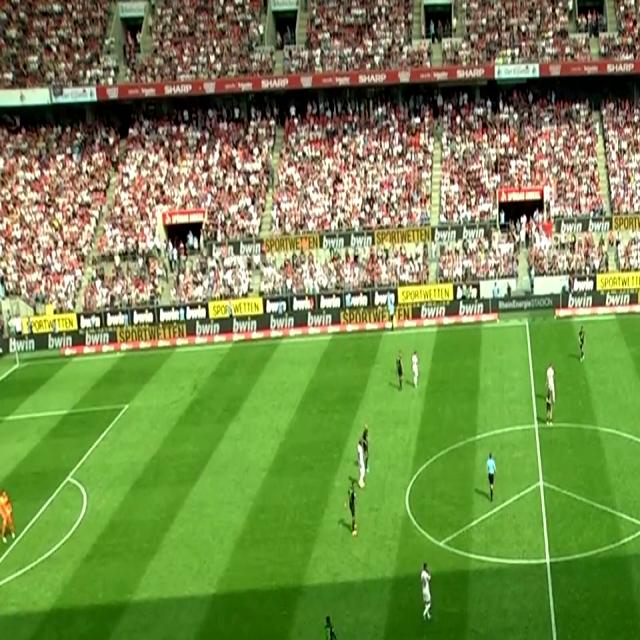goalkeeper: (0, 479, 21, 552)
referee: (482, 443, 500, 504)
soccer-player: (416, 557, 440, 629), (343, 478, 362, 546), (353, 440, 369, 491), (543, 384, 557, 440), (390, 344, 404, 399), (577, 318, 591, 372), (411, 346, 425, 390), (321, 610, 341, 640)
